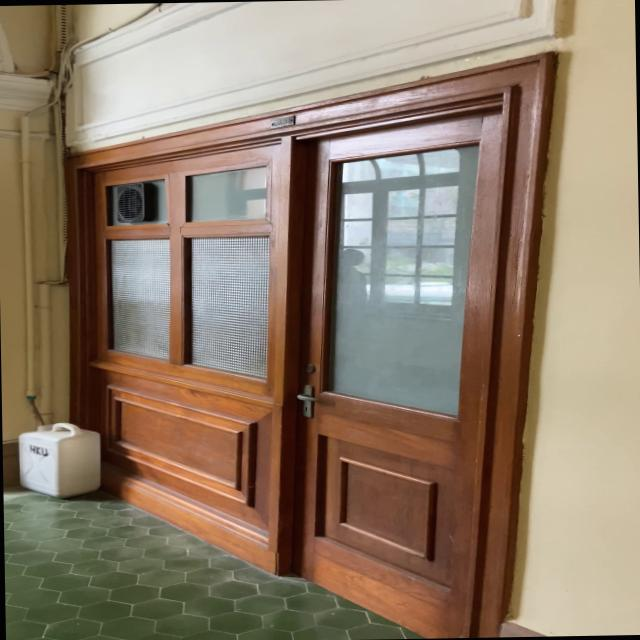room230: (269, 114, 294, 130)
